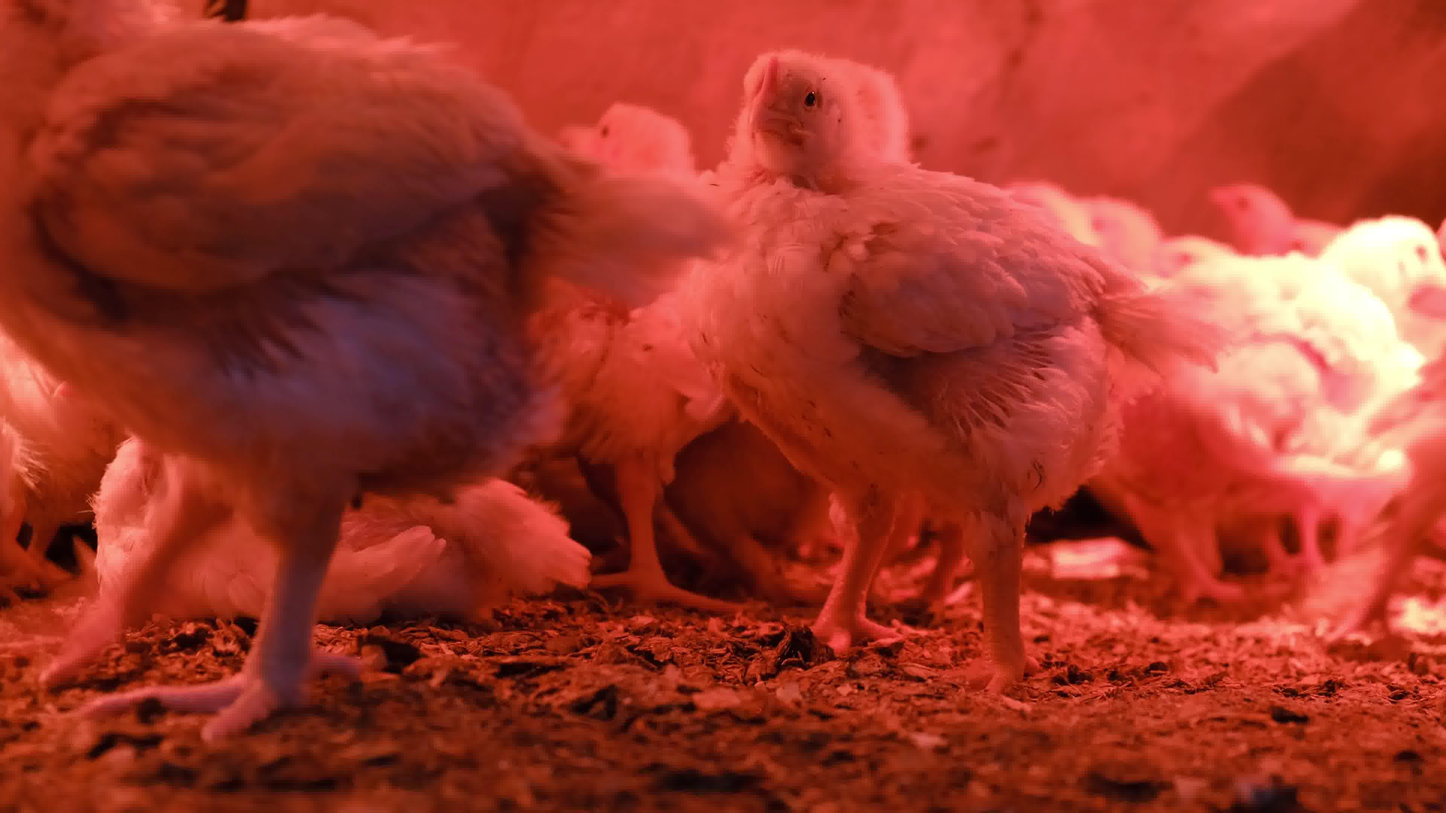AbNormal: (43, 395, 612, 664)
Normal: (0, 0, 606, 734), (710, 34, 1135, 702), (1019, 177, 1414, 604), (559, 72, 778, 634), (1181, 113, 1329, 346), (1286, 222, 1446, 388)
